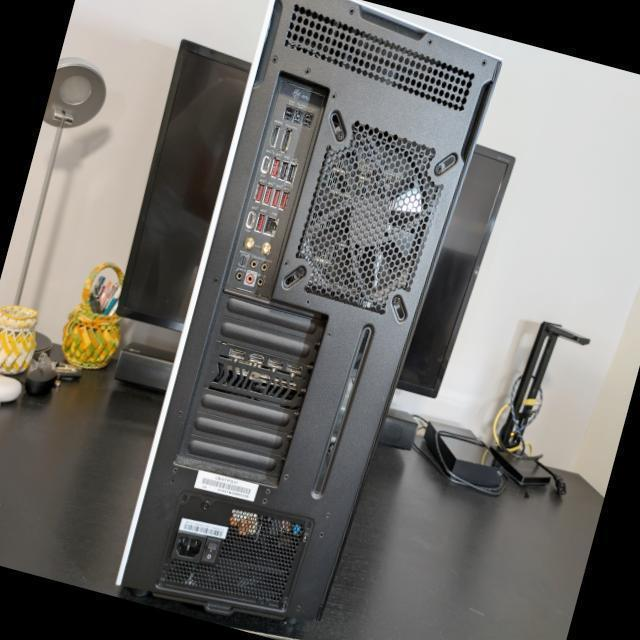PSU: (155, 486, 312, 622)
